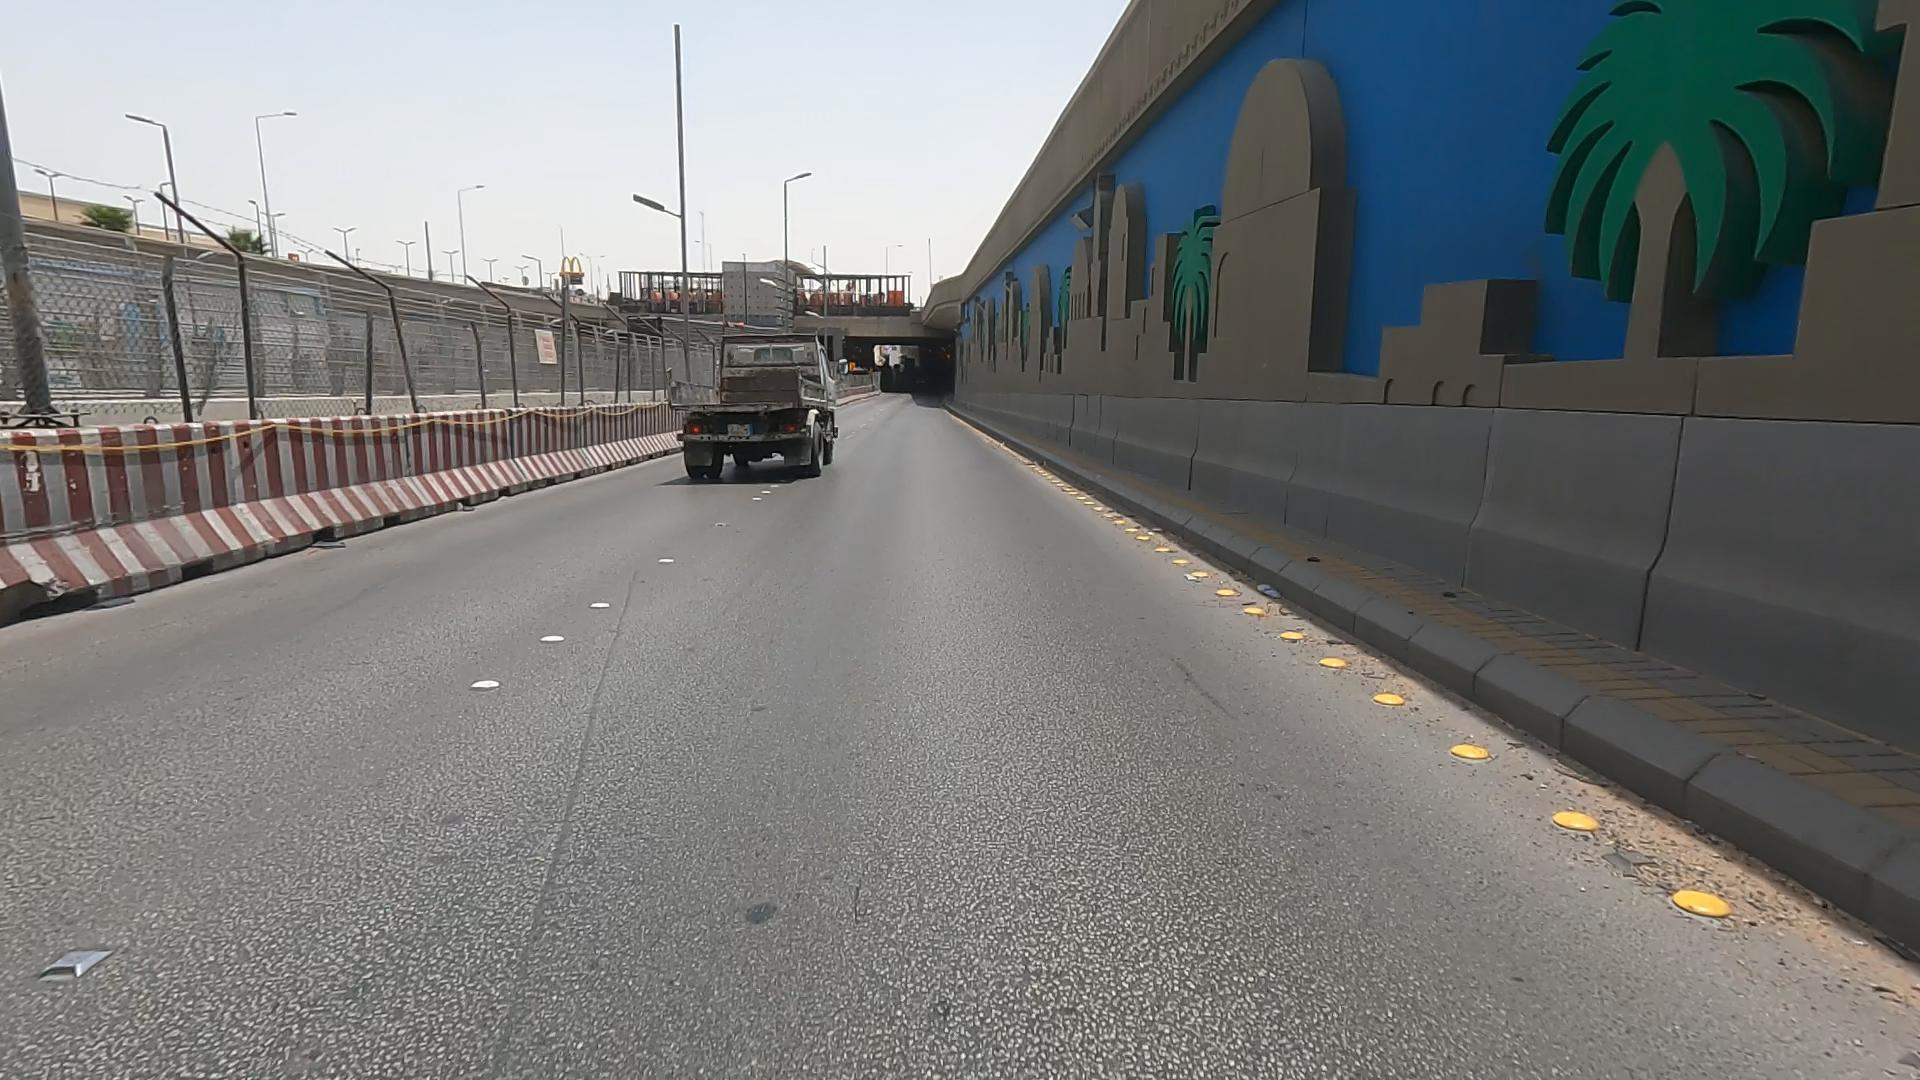CONSTRUCTION_ROAD: (0, 48, 669, 776)
